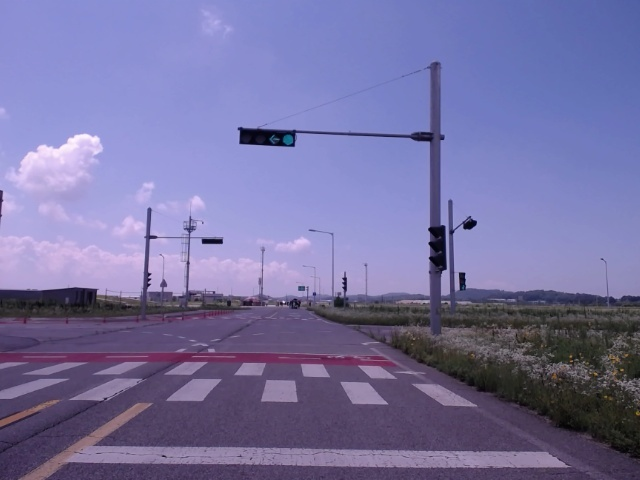all_green_4: (239, 127, 297, 147)
